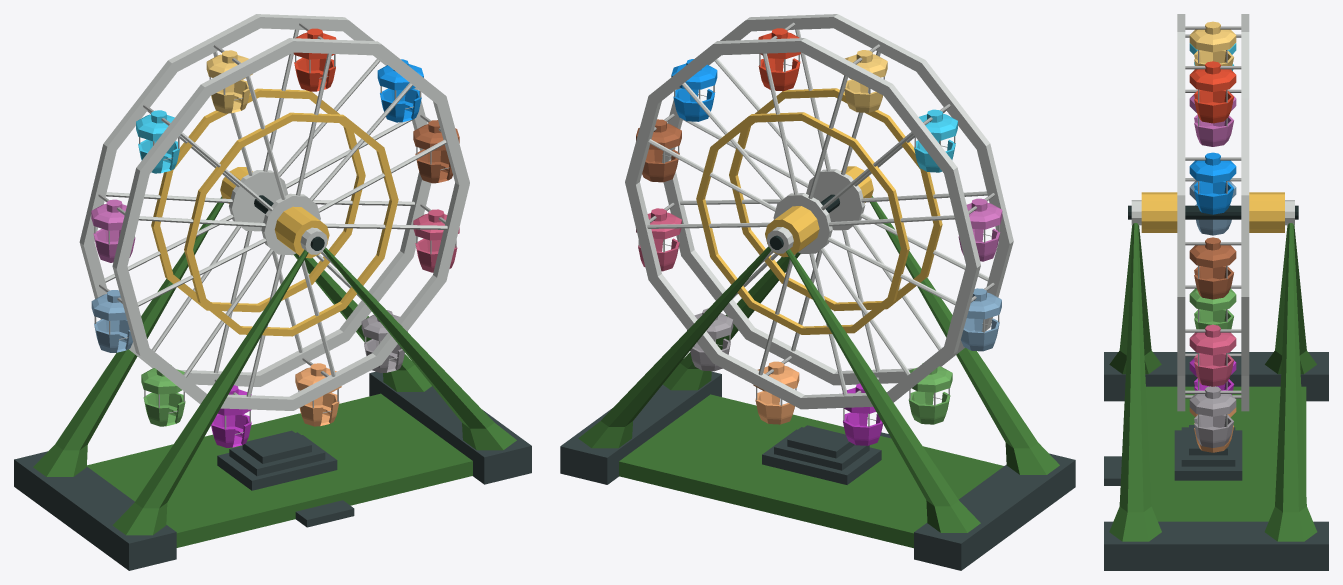
The model's file is FerrisWheel.fbx.
The picture shows the model from 3 angles, left to right: view 1: azimuth 30°, elevation 25°; view 2: azimuth 150°, elevation 25°; view 3: azimuth 270°, elevation 25°; orthographic projection. The views are drawn at different scales.
Parts seen in each view (by area): view 1: FerrisWheel_Base, FerrisWheel_Rotate, FerrisWheel_Cabin.007, FerrisWheel_Cabin.008, FerrisWheel_Cabin.002, FerrisWheel_Cabin.001, FerrisWheel_Cabin.010, FerrisWheel_Cabin.004, FerrisWheel_Cabin.006, FerrisWheel_Cabin.003, FerrisWheel_Cabin.005, FerrisWheel_Cabin (+2 smaller); view 2: FerrisWheel_Base, FerrisWheel_Rotate, FerrisWheel_Cabin.007, FerrisWheel_Cabin.008, FerrisWheel_Cabin.002, FerrisWheel_Cabin.001, FerrisWheel_Cabin.010, FerrisWheel_Cabin.004, FerrisWheel_Cabin.006, FerrisWheel_Cabin.003, FerrisWheel_Cabin.005, FerrisWheel_Cabin (+2 smaller); view 3: FerrisWheel_Base, FerrisWheel_Rotate, FerrisWheel_Cabin.011, FerrisWheel_Cabin, FerrisWheel_Cabin.001, FerrisWheel_Cabin.003, FerrisWheel_Cabin.002, FerrisWheel_Cabin.004, FerrisWheel_Cabin.008, FerrisWheel_Cabin.006, FerrisWheel_Cabin.007, FerrisWheel_Cabin.009 (+1 smaller).
Boxes of the visible parts, x1=… form: FerrisWheel_Base: x1=14, y1=177, x2=531, y2=570; FerrisWheel_Rotate: x1=79, y1=14, x2=469, y2=410; FerrisWheel_Cabin.007: x1=91, y1=284, x2=132, y2=352; FerrisWheel_Cabin.008: x1=141, y1=365, x2=185, y2=426; FerrisWheel_Cabin.002: x1=413, y1=114, x2=459, y2=183; FerrisWheel_Cabin.001: x1=377, y1=59, x2=423, y2=122; FerrisWheel_Cabin.010: x1=295, y1=357, x2=341, y2=426; FerrisWheel_Cabin.004: x1=206, y1=44, x2=252, y2=113; FerrisWheel_Cabin.006: x1=91, y1=193, x2=135, y2=262; FerrisWheel_Cabin.003: x1=294, y1=22, x2=336, y2=91; FerrisWheel_Cabin.005: x1=136, y1=104, x2=179, y2=173; FerrisWheel_Cabin: x1=413, y1=203, x2=459, y2=272; FerrisWheel_Base: x1=560, y1=176, x2=1075, y2=570; FerrisWheel_Rotate: x1=625, y1=14, x2=1013, y2=409; FerrisWheel_Cabin.007: x1=960, y1=283, x2=1001, y2=351; FerrisWheel_Cabin.008: x1=908, y1=363, x2=952, y2=424; FerrisWheel_Cabin.002: x1=636, y1=114, x2=681, y2=182; FerrisWheel_Cabin.001: x1=671, y1=59, x2=717, y2=121; FerrisWheel_Cabin.010: x1=753, y1=356, x2=799, y2=424; FerrisWheel_Cabin.004: x1=842, y1=44, x2=887, y2=112; FerrisWheel_Cabin.006: x1=958, y1=193, x2=1002, y2=261; FerrisWheel_Cabin.003: x1=758, y1=22, x2=800, y2=91; FerrisWheel_Cabin.005: x1=914, y1=104, x2=957, y2=172; FerrisWheel_Cabin: x1=636, y1=203, x2=681, y2=271; FerrisWheel_Base: x1=1104, y1=200, x2=1328, y2=570; FerrisWheel_Rotate: x1=1141, y1=14, x2=1284, y2=411; FerrisWheel_Cabin.011: x1=1185, y1=386, x2=1241, y2=447; FerrisWheel_Cabin: x1=1185, y1=324, x2=1241, y2=386; FerrisWheel_Cabin.001: x1=1185, y1=152, x2=1241, y2=214; FerrisWheel_Cabin.003: x1=1185, y1=61, x2=1241, y2=123; FerrisWheel_Cabin.002: x1=1185, y1=237, x2=1241, y2=299; FerrisWheel_Cabin.004: x1=1185, y1=21, x2=1241, y2=69; FerrisWheel_Cabin.008: x1=1185, y1=285, x2=1241, y2=329; FerrisWheel_Cabin.006: x1=1185, y1=89, x2=1241, y2=146; FerrisWheel_Cabin.007: x1=1185, y1=178, x2=1241, y2=235; FerrisWheel_Cabin.009: x1=1185, y1=353, x2=1241, y2=394.
Bounding box in the file's own units: 1698 × 1828 × 840.
